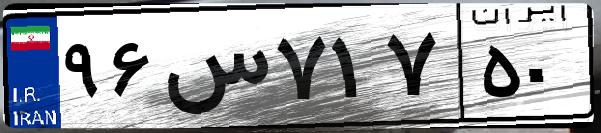0: (525, 38, 570, 115)
1: (330, 28, 385, 110)
5: (475, 38, 525, 113)
6: (110, 28, 158, 98)
7: (270, 28, 330, 110), (385, 28, 445, 110)
9: (57, 26, 110, 100)
س: (158, 20, 270, 120)
